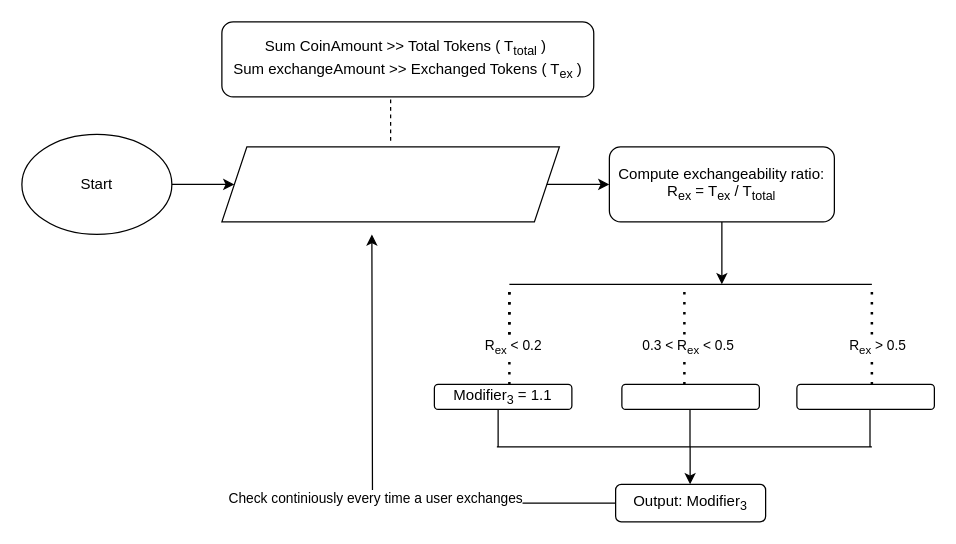
The diagram is 956 pixels wide and 544 high, and some of its shapes have lost their labels. The box of each missing label's shape, as (x1, y1, x2, y2) in pixels:
Fetch all player data from smart contract: (221, 146, 559, 222)
Modifier 3 = 0.3: (796, 383, 934, 409)
Modifier 3 = 0.65: (621, 383, 759, 409)
